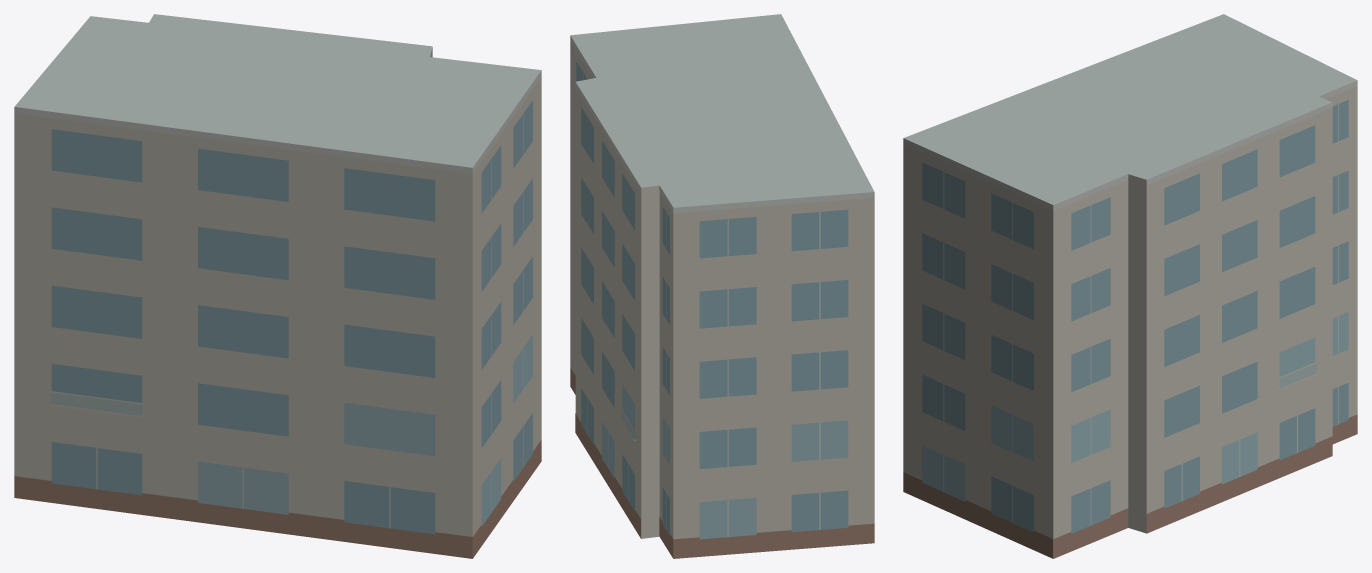
The model's file is survey-upis-33021052.glb.
3 views of the same model, side by side, from view 1: azimuth 30°, elevation 25°; view 2: azimuth 150°, elevation 25°; view 3: azimuth 270°, elevation 25° (orthographic). The views are drawn at different scales.
Visible parts, largest first — view 1: survey-upis-33021052.tmp; view 2: survey-upis-33021052.tmp; view 3: survey-upis-33021052.tmp.
Boxes of the visible parts, box(x1,y1,x2,y2) form: survey-upis-33021052.tmp: box(14, 14, 541, 558); survey-upis-33021052.tmp: box(570, 14, 874, 558); survey-upis-33021052.tmp: box(903, 14, 1357, 558).
Bounding box in the file's own units: 17.69 × 15.26 × 17.77.
